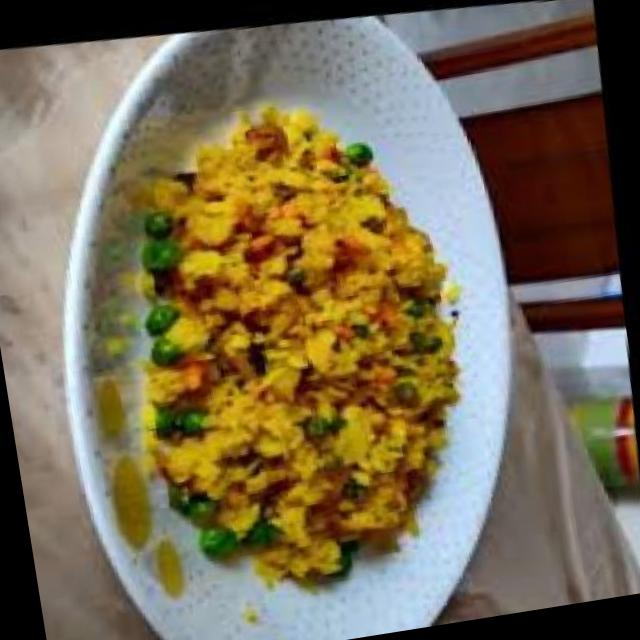poha: (89, 66, 515, 615)
